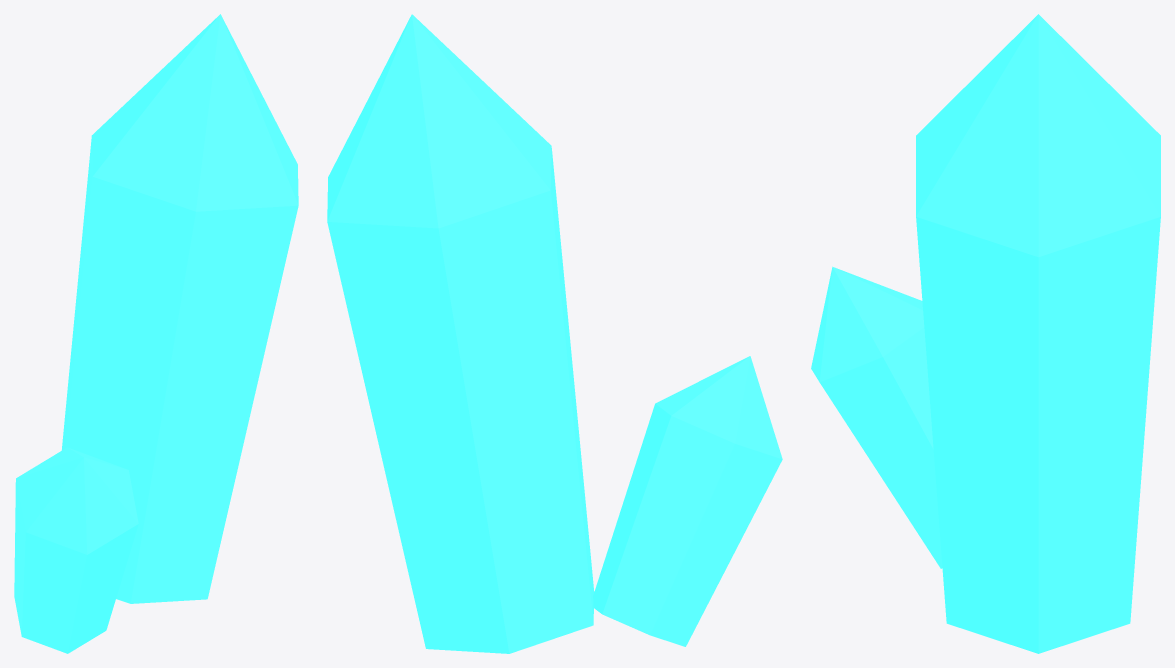
Rendered from Rock_Crystal_Shard_B.fbx.
3 renders of one model, left to right at view 1: azimuth 30°, elevation 25°; view 2: azimuth 150°, elevation 25°; view 3: azimuth 270°, elevation 25°, orthographic. The views are drawn at different scales.
Parts seen in each view (by area): view 1: Rock_Crystal_Shard_B; view 2: Rock_Crystal_Shard_B; view 3: Rock_Crystal_Shard_B.
Boxes of the visible parts, <box> form: Rock_Crystal_Shard_B: <box>14,14,298,653</box>; Rock_Crystal_Shard_B: <box>327,14,782,653</box>; Rock_Crystal_Shard_B: <box>811,14,1160,653</box>.
Bounding box in the file's own units: 0.6632 × 1.03 × 0.495.
